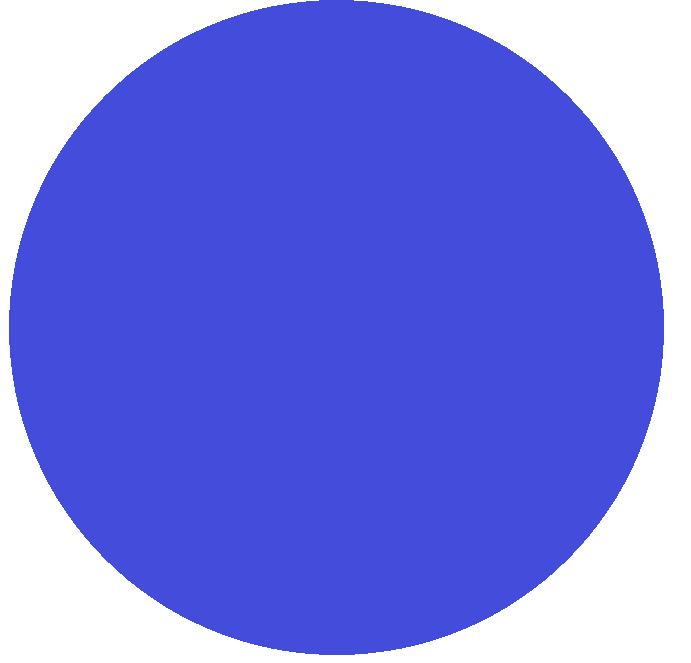blue_circle: (0, 0, 680, 661)
